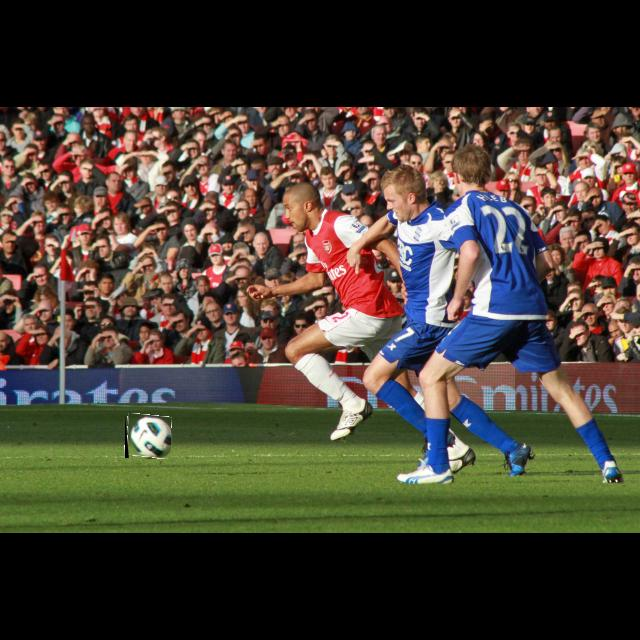Football: (125, 414, 171, 458)
